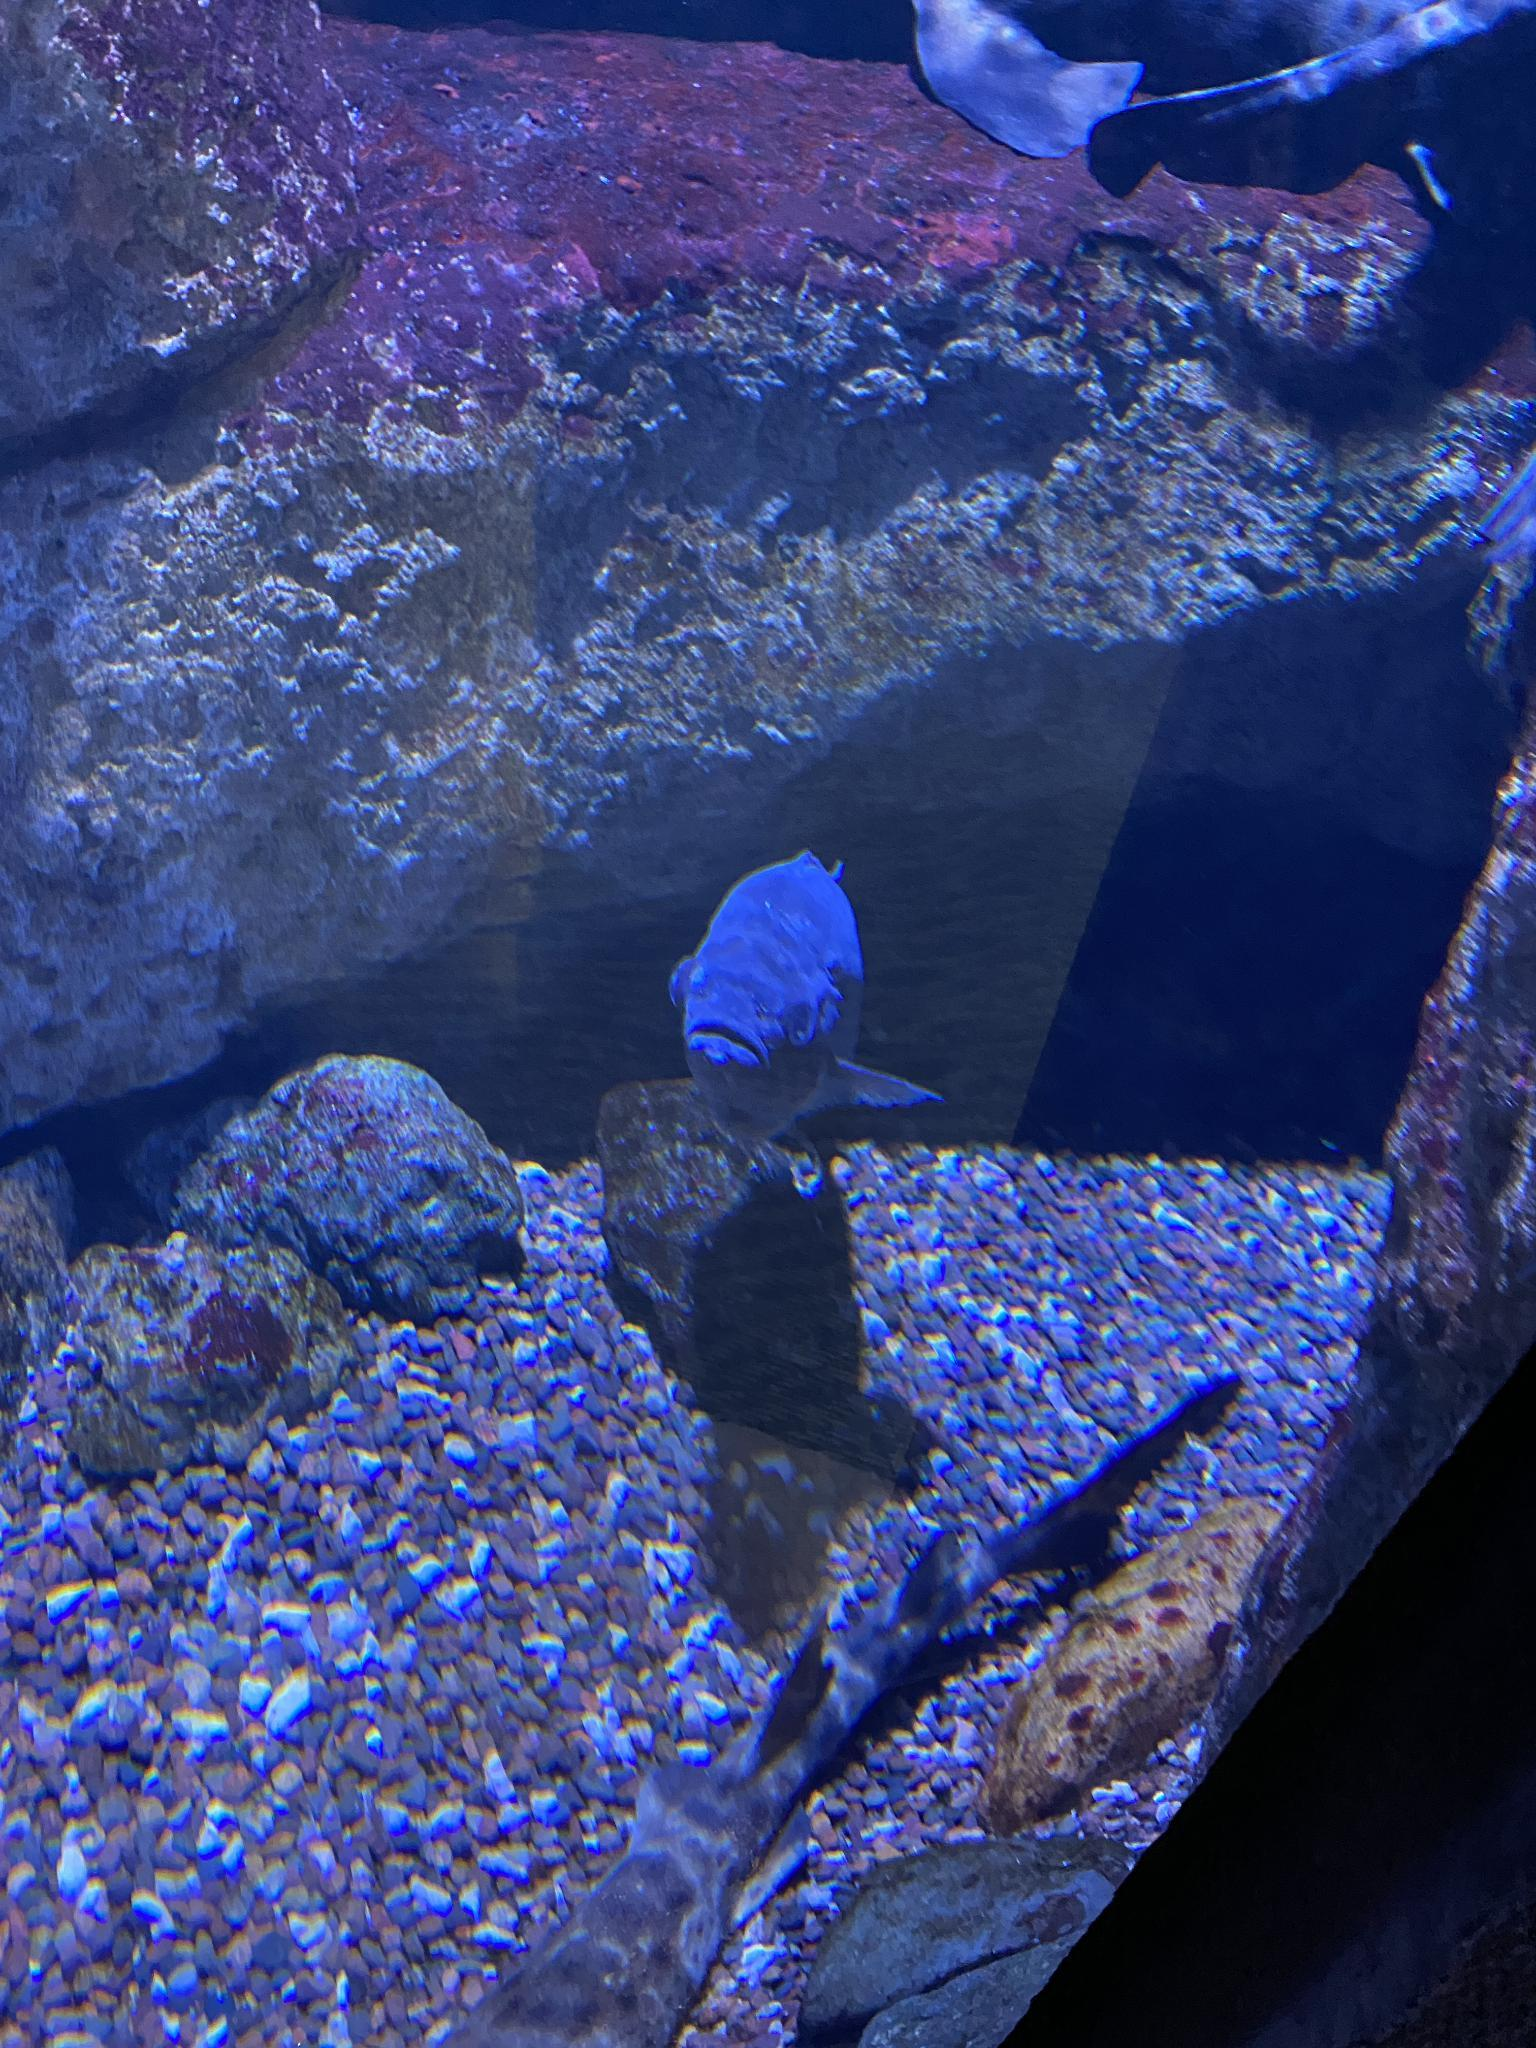fish: (678, 853, 937, 1113)
shark: (434, 1379, 1233, 2046), (892, 0, 1536, 211)
